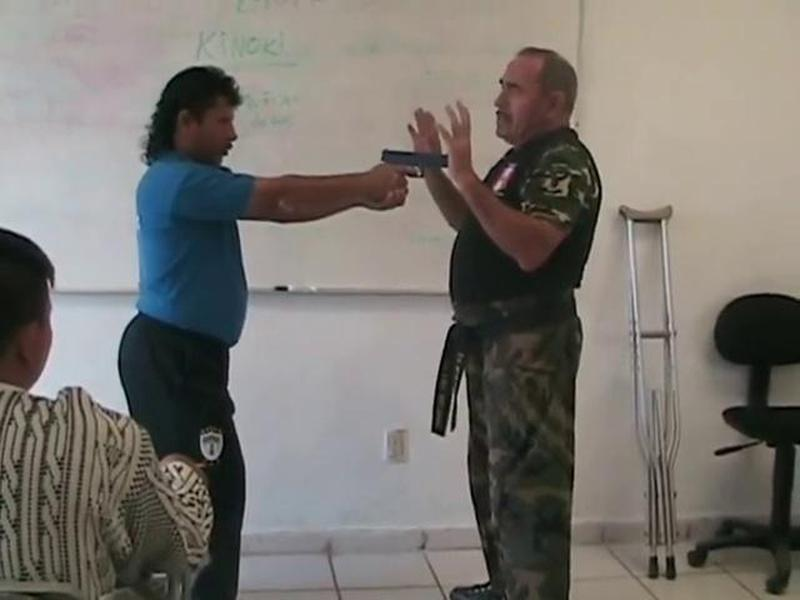Pistola: (369, 134, 466, 202)
